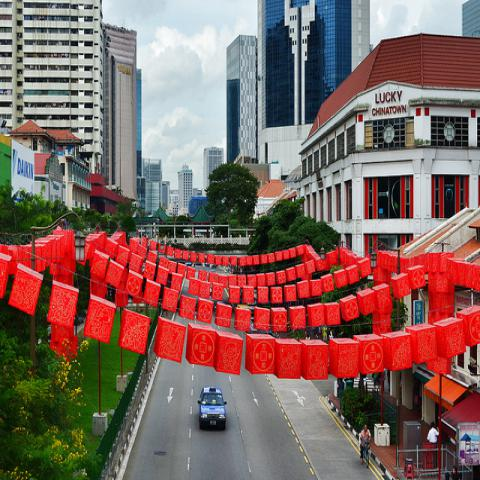car: (198, 385, 227, 428), (185, 262, 192, 267)
